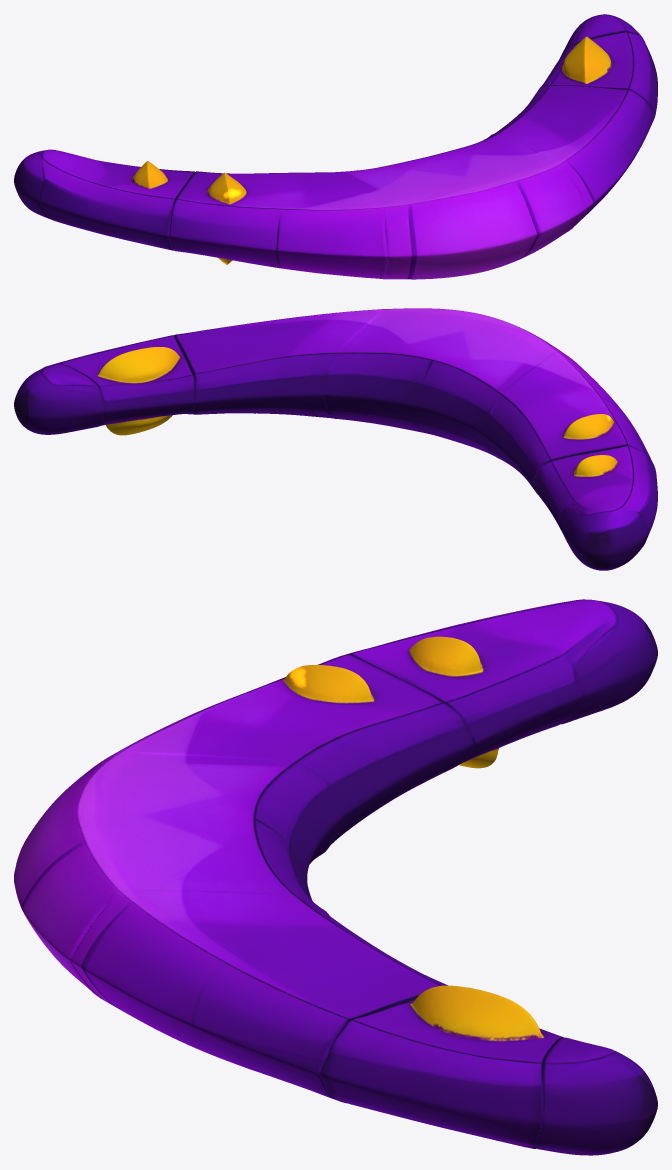
Rendered from boomerang.glb.
3 renders of one model, top to bottom at view 1: azimuth 30°, elevation 25°; view 2: azimuth 150°, elevation 25°; view 3: azimuth 270°, elevation 25°, orthographic. The views are drawn at different scales.
Bounding box in the file's own units: 1.9 × 0.2426 × 1.04.
Materials: 1 (1 with a texture image).
